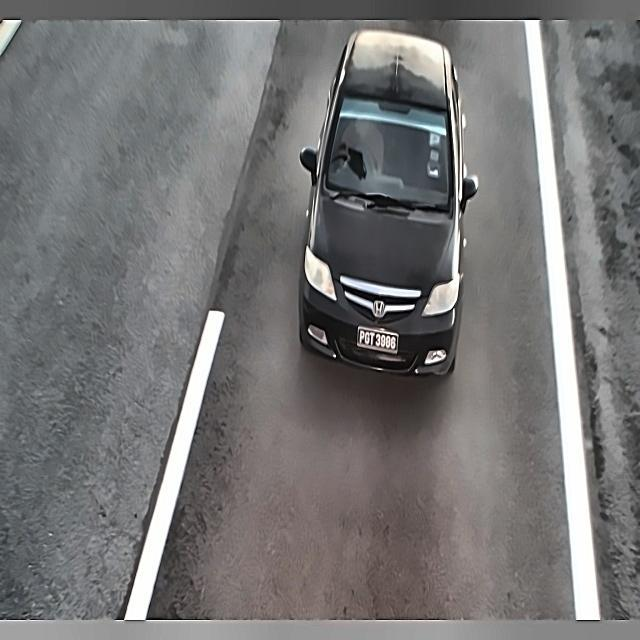car: (355, 321, 402, 362)
